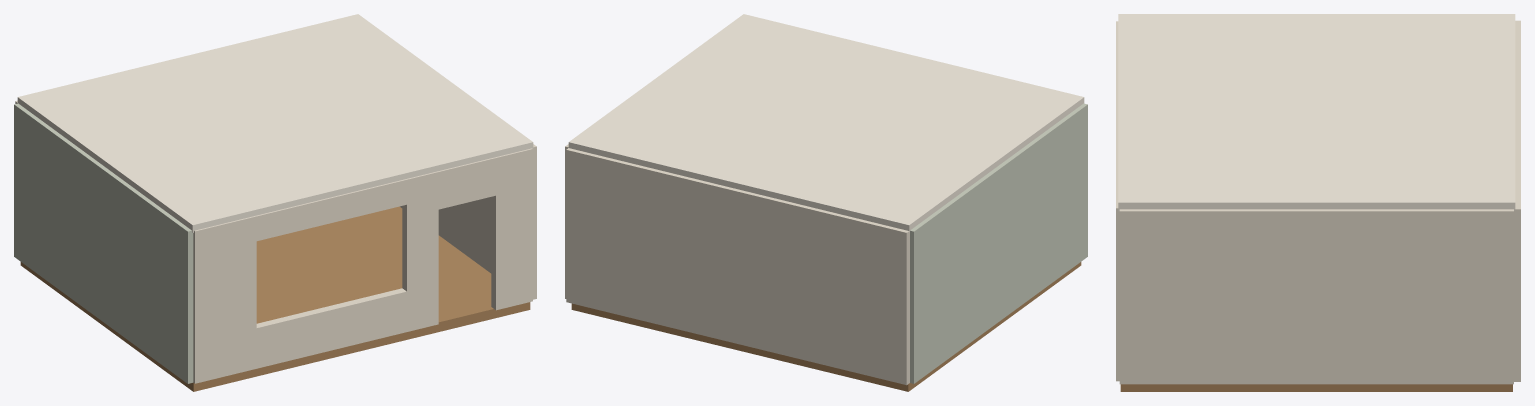
Rendered from proxy_shell.glb.
3 views of the same model, side by side, from view 1: azimuth 30°, elevation 25°; view 2: azimuth 150°, elevation 25°; view 3: azimuth 270°, elevation 25° (orthographic). The views are drawn at different scales.
Parts seen in each view (by area): view 1: ground_room_00/ceiling, ground_room_00/wall_left, ground_room_00/floor, ground_room_00/wall_front_left, ground_room_00/wall_front_sill, ground_room_00/wall_front_right, ground_room_00/wall_front_pier, ground_room_00/wall_front_header, ground_room_00/wall_right, ground_room_00/wall_front_door_head; view 2: ground_room_00/ceiling, ground_room_00/wall_back, ground_room_00/wall_left, ground_room_00/floor; view 3: ground_room_00/ceiling, ground_room_00/wall_right, ground_room_00/floor, ground_room_00/wall_back, ground_room_00/wall_front_right.
Part boxes in pixels (left/top/right/bottom): ground_room_00/ceiling: left=17, top=14, right=533, bottom=232; ground_room_00/wall_left: left=14, top=103, right=193, bottom=383; ground_room_00/floor: left=20, top=206, right=530, bottom=391; ground_room_00/wall_front_left: left=193, top=216, right=256, bottom=383; ground_room_00/wall_front_sill: left=256, top=288, right=406, bottom=368; ground_room_00/wall_front_right: left=491, top=148, right=532, bottom=310; ground_room_00/wall_front_pier: left=402, top=171, right=438, bottom=331; ground_room_00/wall_front_header: left=256, top=179, right=406, bottom=240; ground_room_00/wall_right: left=400, top=144, right=536, bottom=299; ground_room_00/wall_front_door_head: left=438, top=157, right=495, bottom=209; ground_room_00/ceiling: left=568, top=14, right=1084, bottom=232; ground_room_00/wall_back: left=566, top=148, right=909, bottom=385; ground_room_00/wall_left: left=910, top=103, right=1087, bottom=383; ground_room_00/floor: left=571, top=262, right=1081, bottom=391; ground_room_00/ceiling: left=1118, top=14, right=1515, bottom=211; ground_room_00/wall_right: left=1119, top=209, right=1513, bottom=384; ground_room_00/floor: left=1120, top=384, right=1512, bottom=391; ground_room_00/wall_back: left=1514, top=20, right=1520, bottom=381; ground_room_00/wall_front_right: left=1116, top=188, right=1119, bottom=381.
Size of the model in its own units: 7.48 by 3.44 by 6.63.
